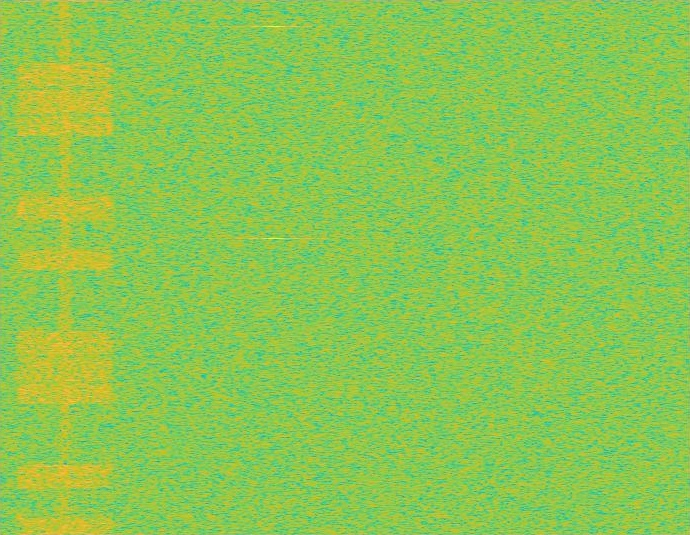DSSS: (58, 0, 72, 534)
LTE: (13, 0, 117, 534)
Radar: (268, 0, 281, 534)
